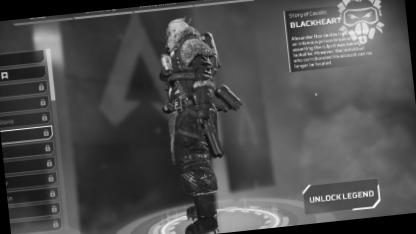Target: (152, 9, 253, 194)
